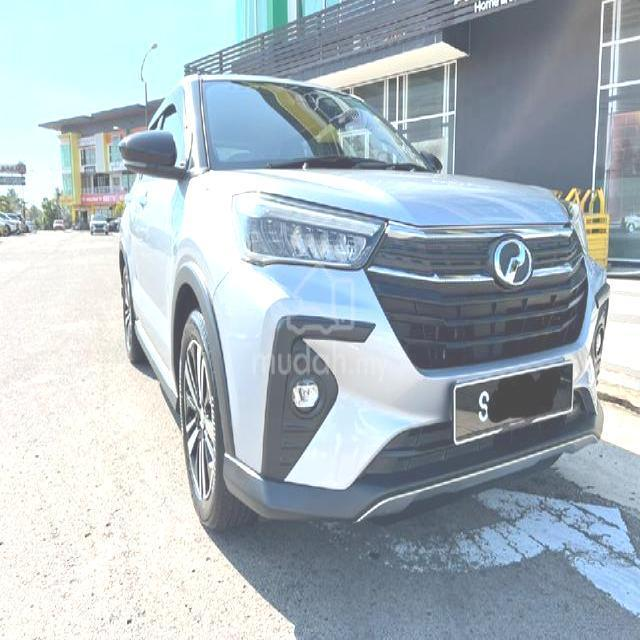PeroduaAtiva: (115, 70, 611, 533)
